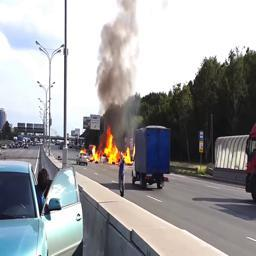fire: (92, 127, 135, 165)
